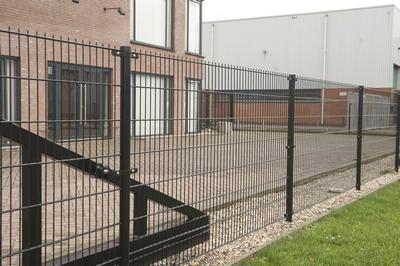obstacle: (0, 82, 400, 188)
